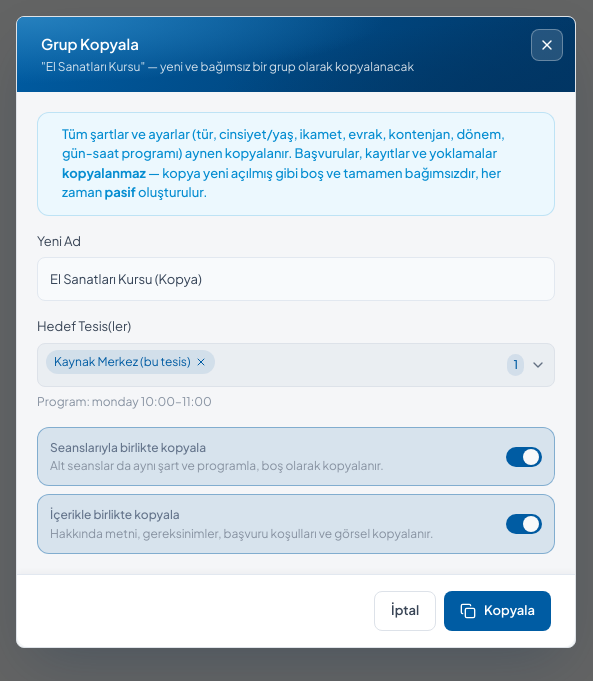
Scenario: FacilityGroupCopyModal › shows a per-facility result summary (without auto-closing) when multiple targets are copied
The image size is (593, 681).
Click the button "Kopyala": (498, 611) left=444, top=591, right=551, bottom=631
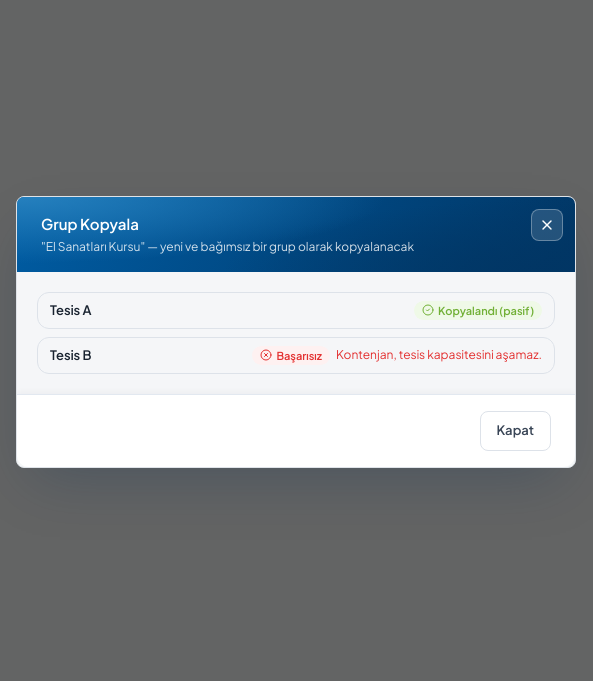
Result: the text "Tesis A" is shown at left=50, top=302, right=91, bottom=318
Result: the text "Tesis B" is shown at left=50, top=347, right=91, bottom=364
Result: the text "Kontenjan, tesis kapasitesini aşamaz." is shown at left=336, top=346, right=542, bottom=364
